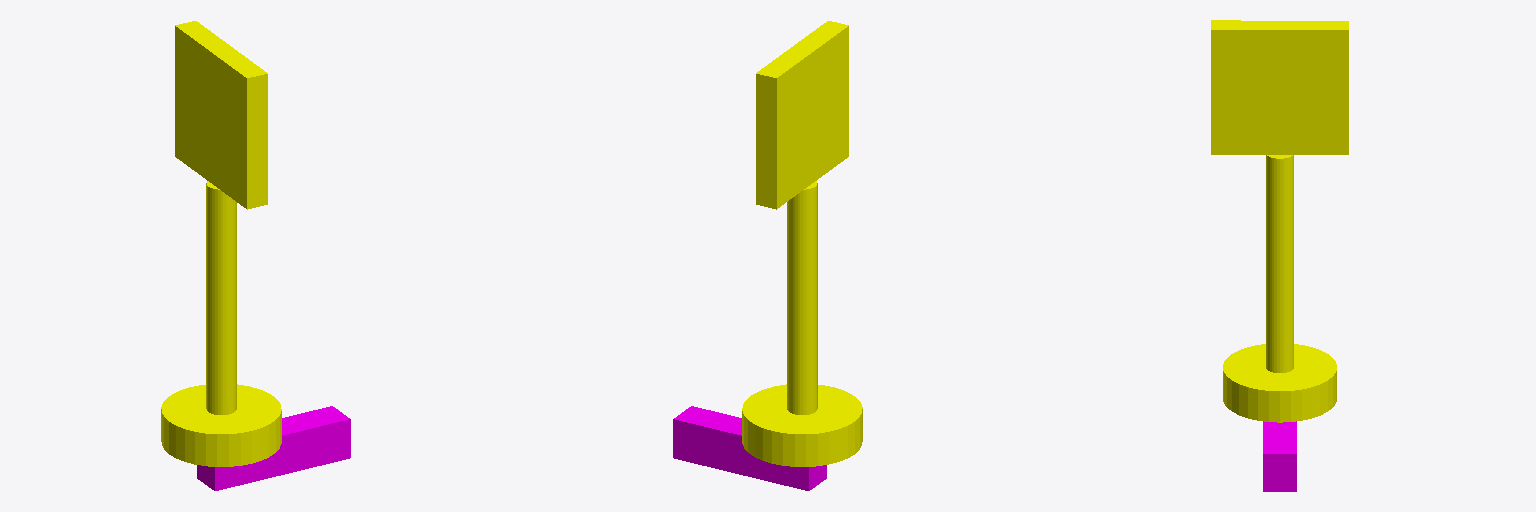
The robot description file, URDF, robot "mearm":
<?xml version="1.0" ?>
<robot name="mearm">
    <link name="world"/>
    <link name="base_link">
        <visual>
            <geometry>
                <box size="0.13 0.03 0.036" />
            </geometry>
            <material name="cyan">
                <color rgba="1 0 1 1" />
            </material>
            <origin rpy="0 0 0" xyz=".05 0 0.018" />
        </visual>
        <collision>
            <geometry>
                <box size="0.13 0.03 0.036" />
            </geometry>
            <origin rpy="0 0 0" xyz=".05 0 0.018" />
        </collision>
        <inertial>
            <mass value="0.1" />
            <origin xyz="0 0 0" rpy="0 0 0" />
            <inertia ixx="0.03" iyy="0.03" izz="0.03" ixy="0.0" ixz="0.0" iyz="0.0" />
        </inertial>
    </link>
    <link name="link1">
        <visual>
            <geometry>
                <cylinder length="0.03" radius="0.05" />
            </geometry>
            <material name="yellow">
                <color rgba="1 1 0 1" />
            </material>
            <origin rpy="0 0 0" xyz="0 0 0.015" />
        </visual>
        <collision>
            <geometry>
                <cylinder length="0.03" radius="0.05" />
            </geometry>
            <origin rpy="0 0 0" xyz="0 0 0.015" />
        </collision>
        <inertial>
            <mass value="0.1" />
            <origin xyz="0 0 0" rpy="0 0 0" />
            <inertia ixx="0.03" iyy="0.03" izz="0.03" ixy="0.0" ixz="0.0" iyz="0.0" />
        </inertial>
    </link>
    <link name="link2">
        <visual>
            <geometry>
                <cylinder length="0.102" radius="0.0125" />
            </geometry>
            <material name="yellow" />
            <origin rpy="0 0 0" xyz="0 0 0.051" />
        </visual>
        <collision>
            <geometry>
                <cylinder length="0.102" radius="0.0125" />
            </geometry>
            <origin rpy="0 0 0" xyz="0 0 0.051" />
        </collision>
        <inertial>
            <mass value="0.1" />
            <origin xyz="0 0 0" rpy="0 0 0" />
            <inertia ixx="0.03" iyy="0.03" izz="0.03" ixy="0.0" ixz="0.0" iyz="0.0" />
        </inertial>
    </link>
    <link name="link3">
        <visual>
            <geometry>
                <cylinder length="0.107" radius="0.0125" />
            </geometry>
            <material name="yellow" />
            <origin rpy="0 0 0" xyz="0 0 0.051" />
        </visual>
        <collision>
            <geometry>
                <cylinder length="0.107" radius="0.0125" />
            </geometry>
            <origin rpy="0 0 0" xyz="0 0 0.0535" />
        </collision>
        <inertial>
            <mass value="0.1" />
            <origin xyz="0 0 0" rpy="0 0 0" />
            <inertia ixx="0.03" iyy="0.03" izz="0.03" ixy="0.0" ixz="0.0" iyz="0.0" />
        </inertial>
    </link>
    <link name="gripper">
        <visual>
            <geometry>
                <box size="0.02 0.12 0.12" />
            </geometry>
            <material name="yellow" />
            <origin rpy="0 0 0" xyz="0 0 0.06" />
        </visual>
        <collision>
            <geometry>
                <box size="0.02 0.12 0.12" />
            </geometry>
            <origin rpy="0 0 0" xyz="0 0 0.06" />
        </collision>
        <inertial>
            <mass value="0.1" />
            <origin xyz="0 0 0" rpy="0 0 0" />
            <inertia ixx="0.03" iyy="0.03" izz="0.03" ixy="0.0" ixz="0.0" iyz="0.0" />
        </inertial>
    </link>
    <!--
  <link name="upper_arm">
    <visual>
      <geometry>
        <cylinder length="0.8" radius="0.05"/>
      </geometry>
      <material name="yellow"/>
      <origin rpy="0 0 0" xyz="0 0 0.4"/>
    </visual>
	<collision>
      <geometry>
        <cylinder length="0.8" radius="0.05"/>
      </geometry>
      <origin rpy="0 0 0" xyz="0 0 0.4"/>
    </collision>
  </link>

  <link name="hand">
    <visual>
      <geometry>
        <box size="0.05 0.05 0.05"/>
      </geometry>
      <material name="yellow"/>
    </visual>
    <collision>
      <geometry>
        <box size="0.05 0.05 0.05"/>
      </geometry>
      <origin rpy="0 0 0" xyz="0 0 0"/>
    </collision>
  </link>


-->

  <joint name="fixed" type="fixed">
    <parent link="world"/>
    <child link="base_link"/>
  </joint>

    <joint name="shoulder" type="revolute">
        <axis xyz="0 0 -1" />
        <parent link="base_link" />
        <child link="link1" />
        <origin rpy="0 0 3.14" xyz="0.0 0.0 0.036" />
        <limit effort="30" velocity="10.0" lower="-1.57" upper="1.57" />
    </joint>
    <joint name="arm" type="revolute">
        <origin rpy="0 0 0" xyz="0 0 0.03" />
        <parent link="link1" />
        <child link="link2" />
        <axis xyz="0 1 0" />
        <limit effort="30" velocity="1.0" lower="-1.57" upper="0.0" />
    </joint>
    <joint name="arm2" type="revolute">
        <origin rpy="0 0 0" xyz="0 0 0.102" />
        <parent link="link2" />
        <child link="link3" />
        <axis xyz="0 1 0" />
        <limit effort="30" velocity="10.0" lower="-1.57" upper="1.57" />
    </joint>
    <joint name="gripper_joint" type="revolute">
        <origin rpy="0 0 0" xyz="0 0 0.107" />
        <parent link="link3" />
        <child link="gripper" />
        <axis xyz="0 1 0" />
        <limit effort="30" velocity="10.0" lower="-1.57" upper="1.57" />
    </joint>
    <!--
  <joint name="elbow" type="revolute">
    <origin rpy="0 0 0" xyz="0.0 0.0 0.8"/>
    <parent link="lower_arm"/>
    <child link="upper_arm"/>
    <axis xyz="0 1 0"/>
    <limit effort="30" velocity="1.0" lower="1.54" upper="2.75" />
  </joint>    

  <joint name="wrist" type="revolute">
    <axis xyz="1 0 0"/>
    <parent link="lower_arm"/>
    <child link="hand"/>
    <origin rpy="0 0 0" xyz="0.0 0.0 0.805"/>
    <limit effort="30" velocity="1.0" lower="0.0" upper="2.7" />
  </joint>
-->
    <transmission name="trans_shoulder">
        <type>transmission_interface/SimpleTransmission</type>
        <joint name="shoulder">
            <hardwareInterface>hardware_interface/EffortJointInterface</hardwareInterface>
        </joint>
        <actuator name="shoulder_motor">
            <hardwareInterface>hardware_interface/EffortJointInterface</hardwareInterface>
            <mechanicalReduction>1</mechanicalReduction>
        </actuator>
    </transmission>
    <transmission name="trans_arm">
        <type>transmission_interface/SimpleTransmission</type>
        <joint name="arm">
            <hardwareInterface>hardware_interface/EffortJointInterface</hardwareInterface>
        </joint>
        <actuator name="arm_motor">
            <hardwareInterface>hardware_interface/EffortJointInterface</hardwareInterface>
            <mechanicalReduction>1</mechanicalReduction>
        </actuator>
    </transmission>
    <transmission name="trans_arm2">
        <type>transmission_interface/SimpleTransmission</type>
        <joint name="arm2">
            <hardwareInterface>hardware_interface/EffortJointInterface</hardwareInterface>
        </joint>
        <actuator name="arm2_motor">
            <hardwareInterface>hardware_interface/EffortJointInterface</hardwareInterface>
            <mechanicalReduction>1</mechanicalReduction>
        </actuator>
    </transmission>
    <transmission name="trans_gripper_joint">
        <type>transmission_interface/SimpleTransmission</type>
        <joint name="gripper_joint">
            <hardwareInterface>hardware_interface/EffortJointInterface</hardwareInterface>
        </joint>
        <actuator name="gripper_joint_motor">
            <hardwareInterface>hardware_interface/EffortJointInterface</hardwareInterface>
            <mechanicalReduction>1</mechanicalReduction>
        </actuator>
    </transmission>
    <gazebo>
        <plugin name="gazebo_ros_control" filename="libgazebo_ros_control.so">
            <robotNamespace>/</robotNamespace>
        </plugin>
    </gazebo>
</robot>

--- Render facts (derived) ---
The picture shows the robot from 3 angles, left to right: view 1: azimuth 30°, elevation 25°; view 2: azimuth 150°, elevation 25°; view 3: azimuth 270°, elevation 25°; orthographic projection.
Model mearm with 6 links and 5 joints (4 revolute, 1 fixed), rooted at world, posed every joint at zero.
Visible links, largest first — view 1: gripper, link1, base_link, link3, link2; view 2: gripper, link1, base_link, link3, link2; view 3: gripper, link1, link3, link2, base_link.
Boxes of the visible links, x1,y1,x2,y2 form: gripper: (175, 21, 267, 209); link1: (161, 384, 281, 466); base_link: (197, 406, 350, 490); link3: (206, 181, 236, 306); link2: (206, 299, 236, 414); gripper: (756, 21, 848, 209); link1: (742, 384, 862, 466); base_link: (673, 406, 826, 490); link3: (787, 181, 817, 306); link2: (787, 297, 817, 414); gripper: (1211, 20, 1348, 154); link1: (1223, 344, 1336, 422); link3: (1266, 155, 1293, 268); link2: (1266, 263, 1293, 372); base_link: (1263, 421, 1296, 491).
Size in the robot's own frame: 0.165 by 0.12 by 0.395 metres.
Geometry: primitives only (box / cylinder / sphere), no mesh files.